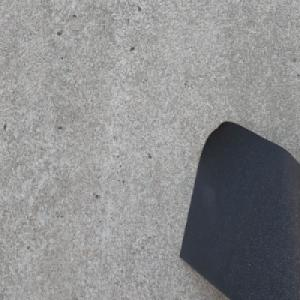PaintChip: (178, 120, 300, 300)
